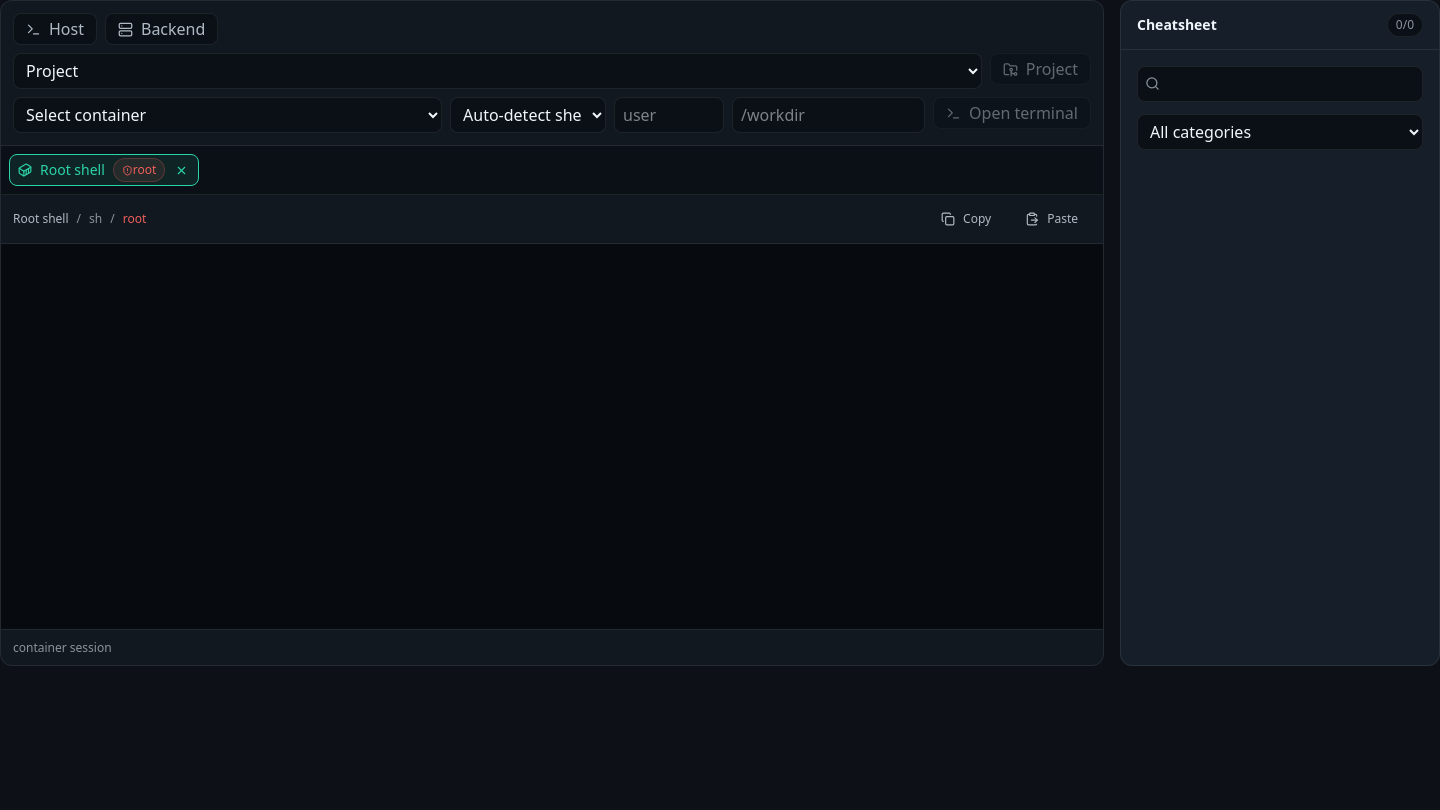
Test case: TerminalPage operation and session lifecycle › keeps guarded paste available for retry until the write succeeds
expect the tab "Root shell root" is shown: met, box 18,158 -> 165,182
Click the button "Paste" at (1052, 219), box 1012,203 -> 1091,235
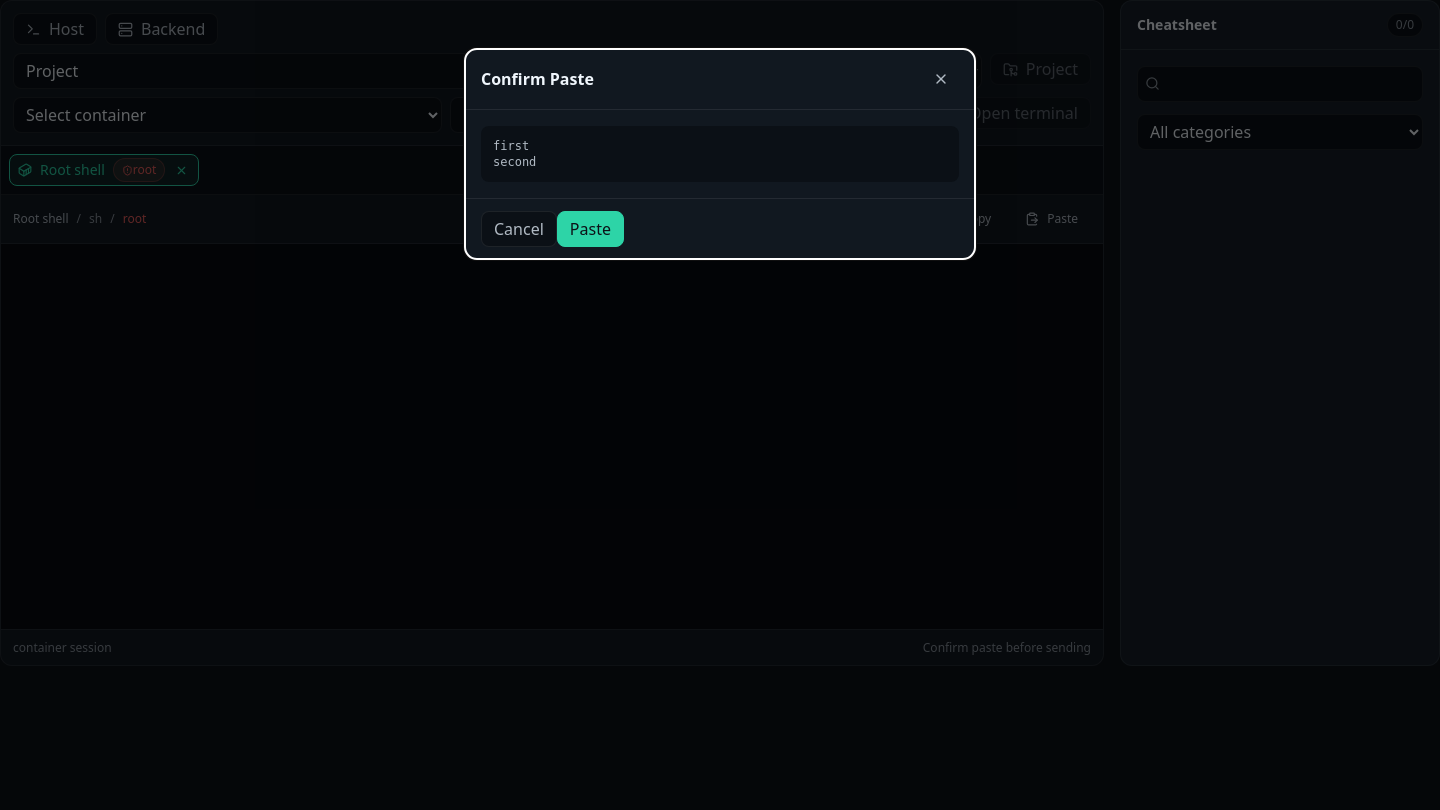
Click the button "Paste" at (590, 229), box 557,211 -> 624,247
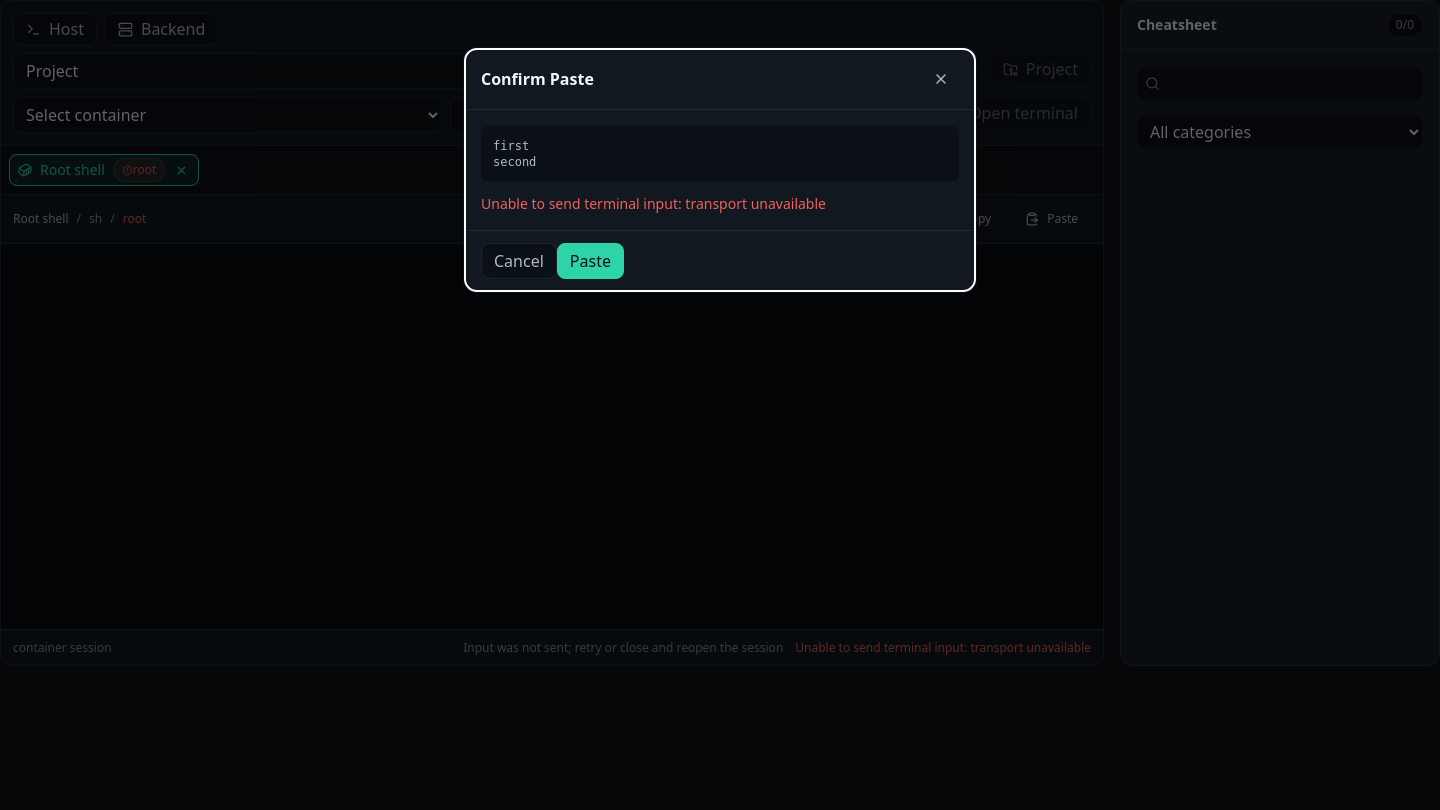
expect the dialog "Confirm Paste" is shown: met, box 464,48 -> 976,292
expect the button "Cancel" is enabled: met, box 481,243 -> 557,279
expect the message reads "Unable to send terminal input: transport unavailable": met, box 481,194 -> 826,213
Click the button "Paste" at (590, 261), box 557,243 -> 624,279
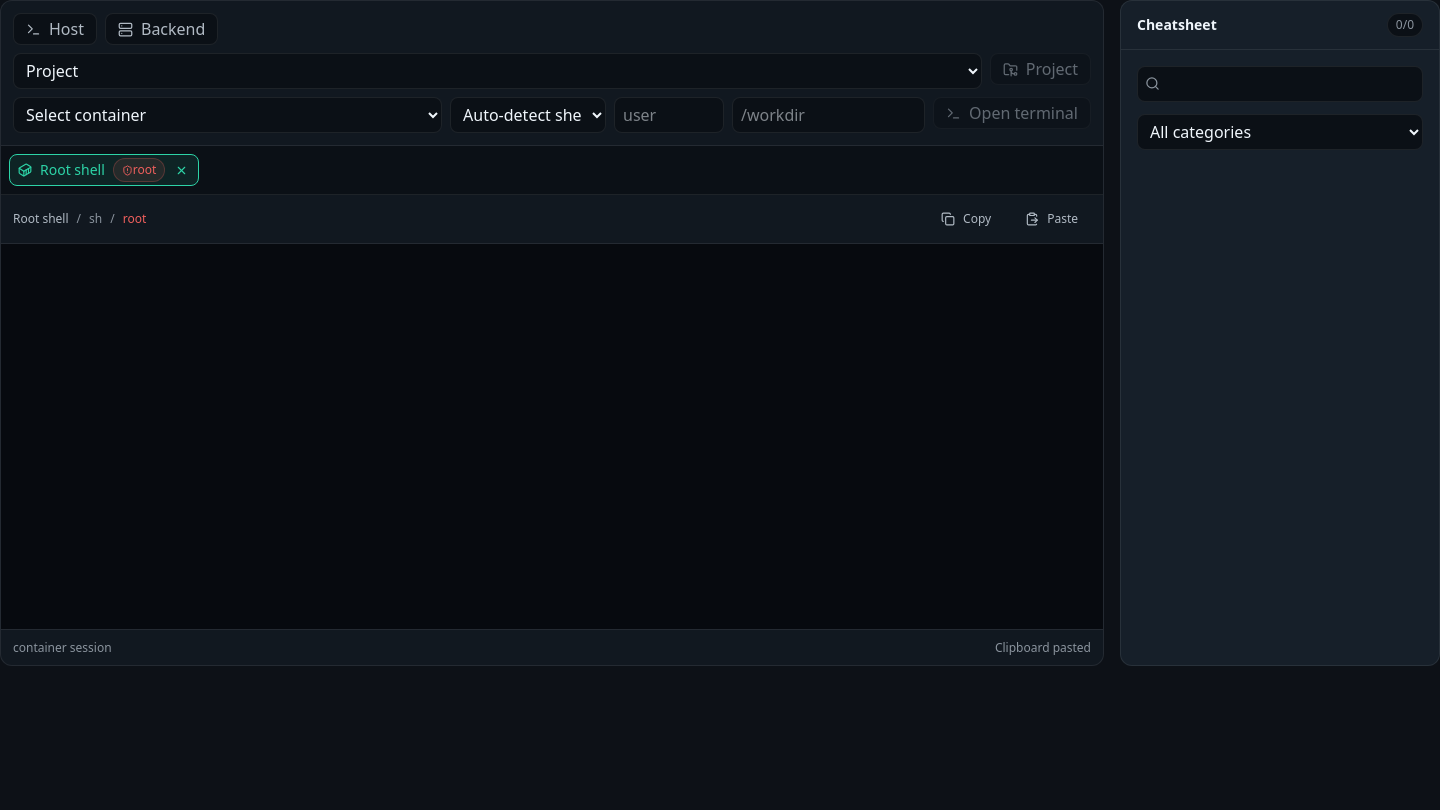
expect the heading "Confirm Paste" is gone: met
expect the text "Clipboard pasted" is shown: met, box 995,640 -> 1091,656
